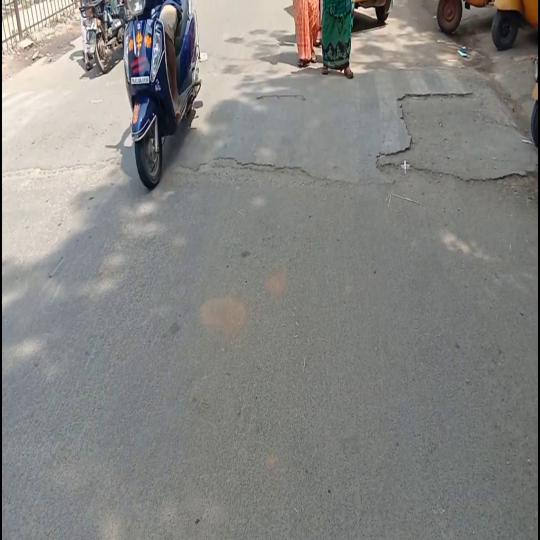Speed Bump: (201, 63, 532, 178), (2, 83, 130, 166)
